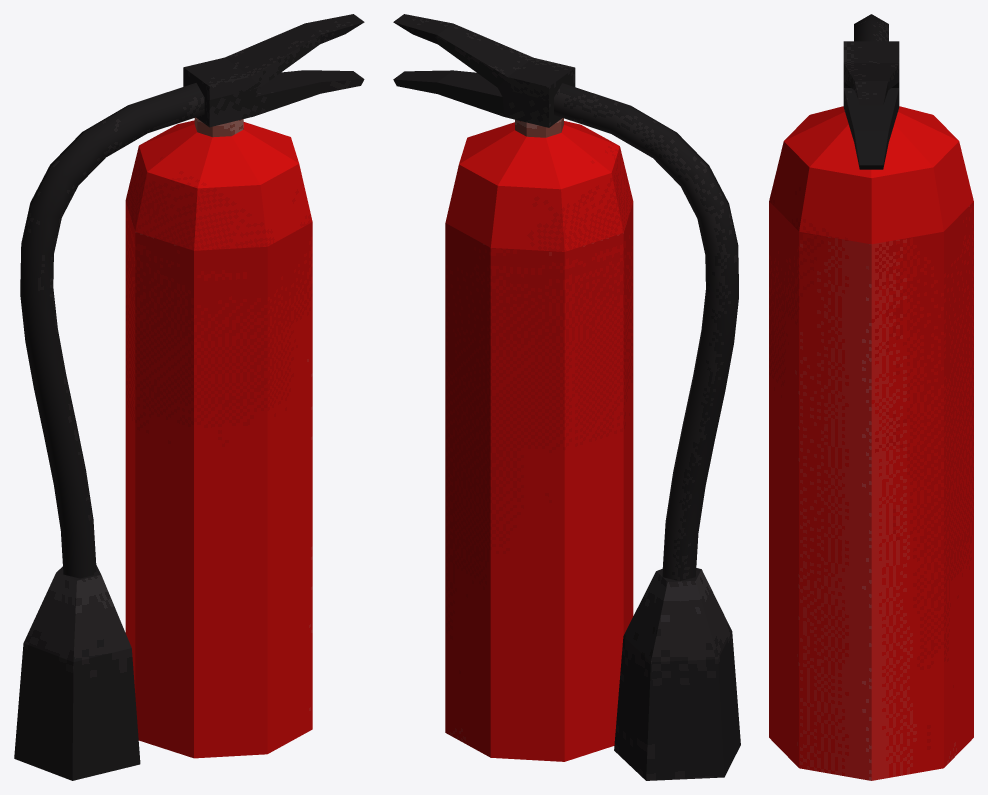
The model's file is fire_extinguisher.glb.
3 views of the same model, side by side, from view 1: azimuth 30°, elevation 25°; view 2: azimuth 150°, elevation 25°; view 3: azimuth 270°, elevation 25° (orthographic). The views are drawn at different scales.
Parts seen in each view (by area): view 1: FireExtinguisher; view 2: FireExtinguisher; view 3: FireExtinguisher.
Boxes of the visible parts, x1,y1,x2,y2 form: FireExtinguisher: (14, 14, 364, 780); FireExtinguisher: (393, 14, 740, 780); FireExtinguisher: (769, 14, 973, 780).
Bounding box in the file's own units: 0.3091 × 0.5812 × 0.153.
1 material, 1 textured.
